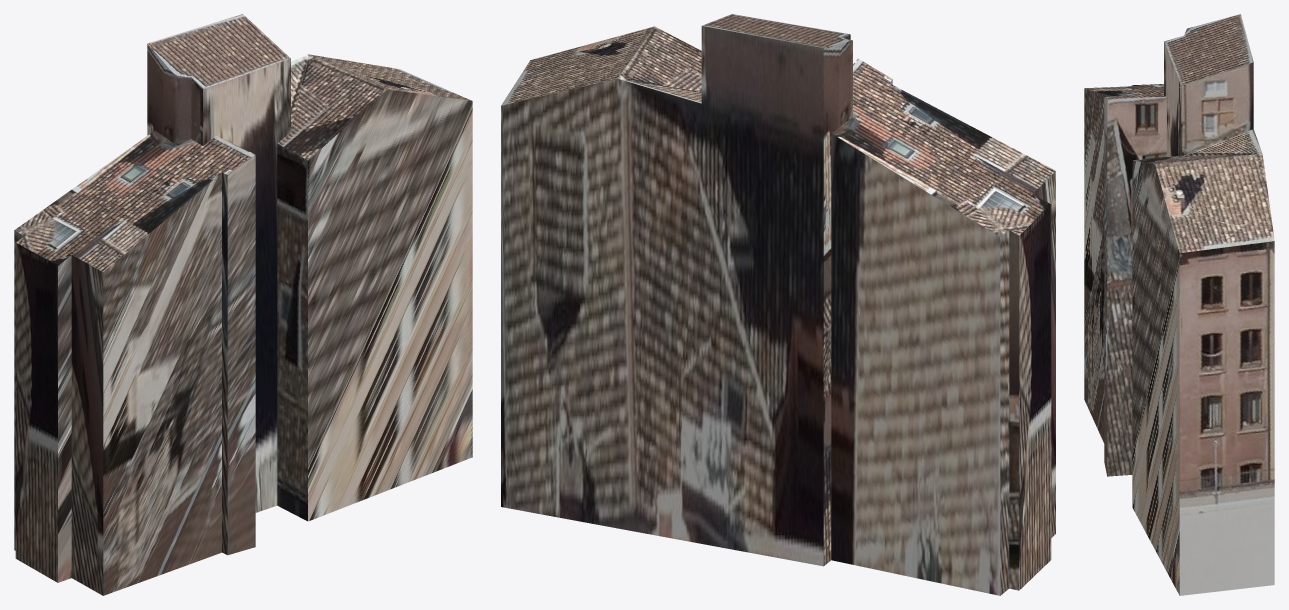
3 renders of one model, left to right at view 1: azimuth 30°, elevation 25°; view 2: azimuth 150°, elevation 25°; view 3: azimuth 270°, elevation 25°, orthographic. The views are drawn at different scales.
Visible parts, largest first — view 1: Z_UP; view 2: Z_UP; view 3: Z_UP.
Part boxes in pixels (bbox=[...]): Z_UP: bbox=[14, 14, 472, 595]; Z_UP: bbox=[501, 14, 1055, 595]; Z_UP: bbox=[1084, 14, 1274, 595].
Size of the model in its own units: 24.65 by 24.39 by 9.48.
Materials: 2 (1 with a texture image).
